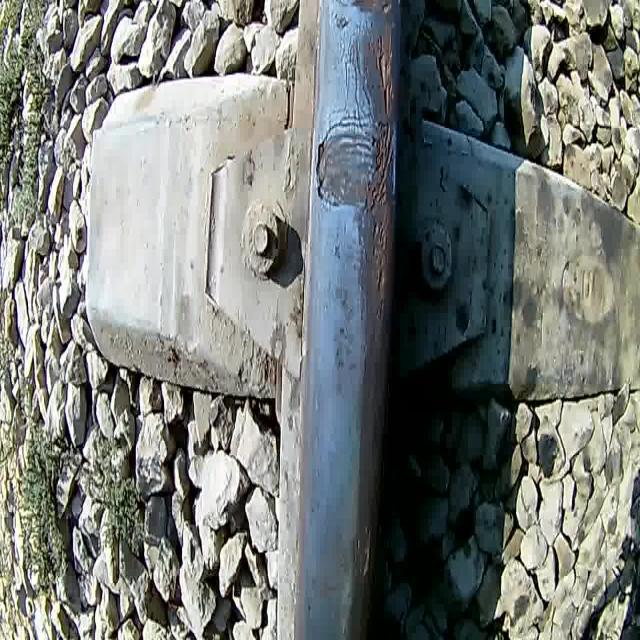Cracks: (325, 22, 375, 148), (316, 131, 330, 206)
Spallings: (362, 116, 394, 214), (368, 217, 392, 318), (374, 26, 397, 116), (346, 515, 374, 588)
Squats: (314, 105, 381, 218), (329, 212, 360, 398), (344, 0, 397, 19)
